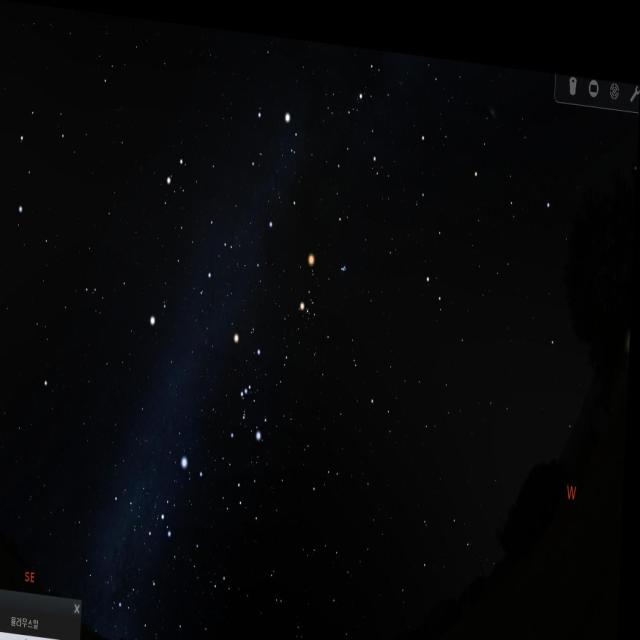canis_major: (161, 440, 209, 542)
canis_minor: (146, 285, 177, 334)
gemini: (159, 127, 261, 295)
orion: (228, 328, 276, 448)
pleiades: (336, 244, 354, 279)
taurus: (298, 242, 374, 364)
